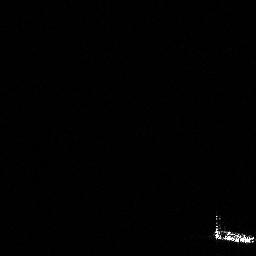ship: (210, 212, 256, 246)
